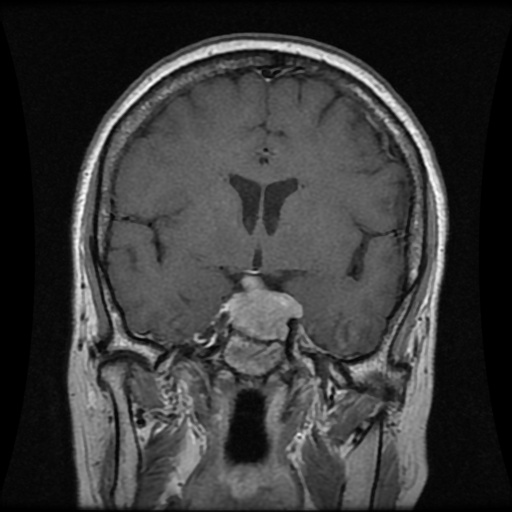pituitary: (226, 277, 301, 341)
